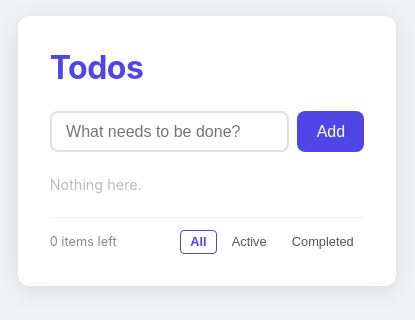
it: App — completing todos › toggles a todo to completed
The image size is (415, 320).
In the field named "new todo": coordinates (170, 132) [50,111,290,152], type "Read book"
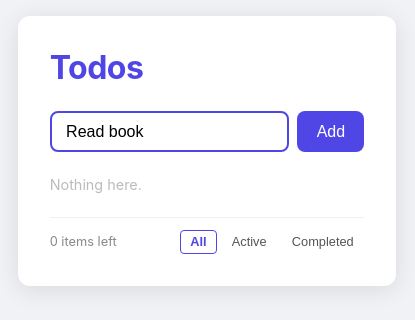
Click the button "Add": coordinates (331, 132) [298,111,364,152]
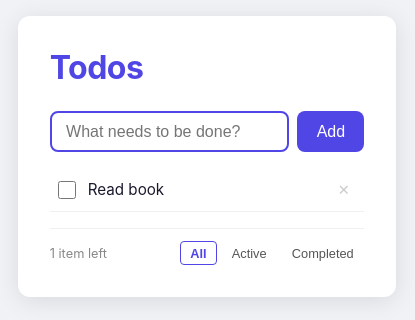
Result: the text "Read book" is shown at [88,180,164,199]
Click the checkbox named "mark \"read book\"": coordinates (67, 190) [58,181,76,199]
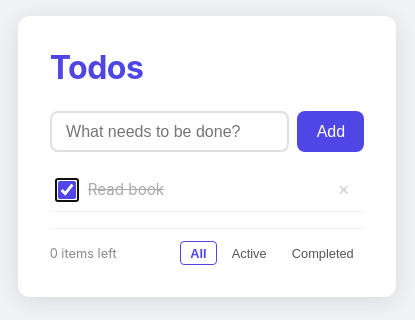
Result: the checkbox named "mark \"read book\"" is checked at [58,181,76,199]
Result: the text "0 items left" is shown at [50,246,117,260]
